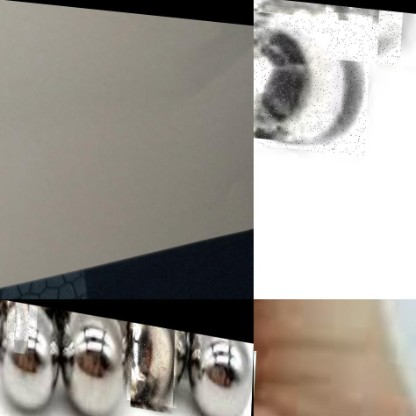ironball: (253, 2, 372, 153), (56, 307, 126, 415), (0, 299, 54, 408), (186, 325, 247, 415), (323, 2, 402, 62), (127, 316, 179, 401), (6, 300, 37, 341)
